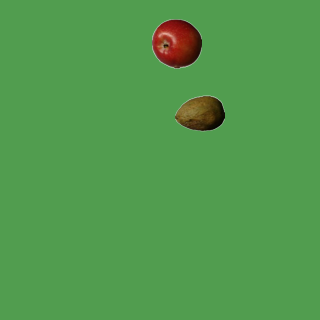Apple Braeburn: (151, 18, 201, 68)
Papaya: (174, 88, 224, 138)
